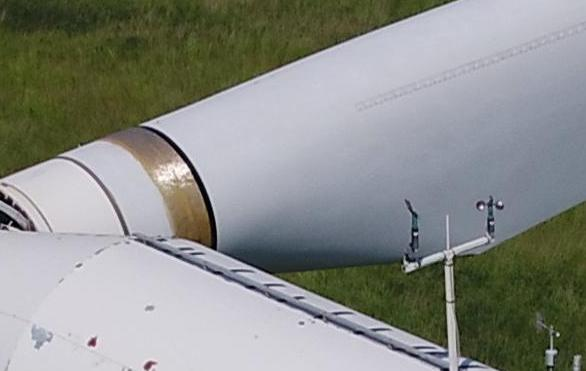damage: (30, 322, 54, 349), (143, 360, 159, 371), (88, 335, 98, 348), (145, 304, 155, 311)
